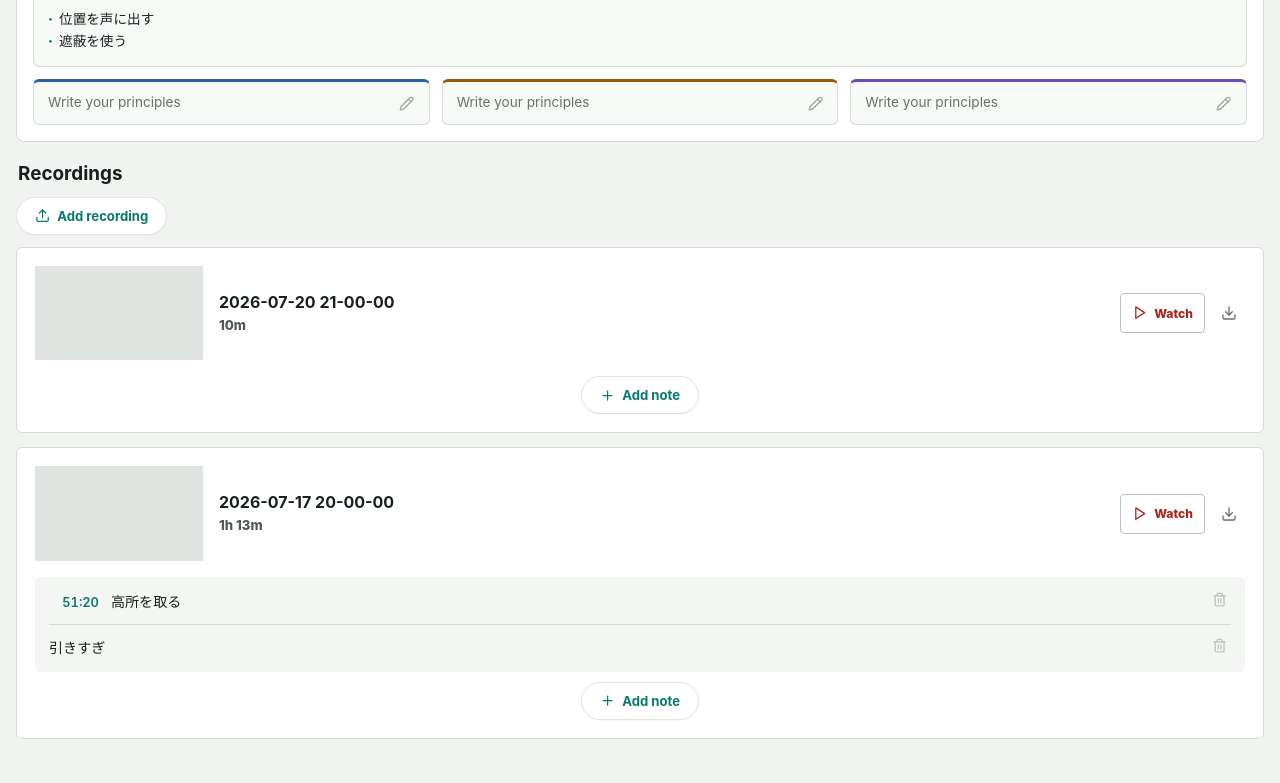
Test: home › shows an error when adding fails
The width and height of the screenshot is (1280, 783).
(page scrolled)
Click the button "Add note" below "2026-07-17 20-00-00" at {"x": 640, "y": 701}, box x1=581 y1=682 x2=699 y2=720
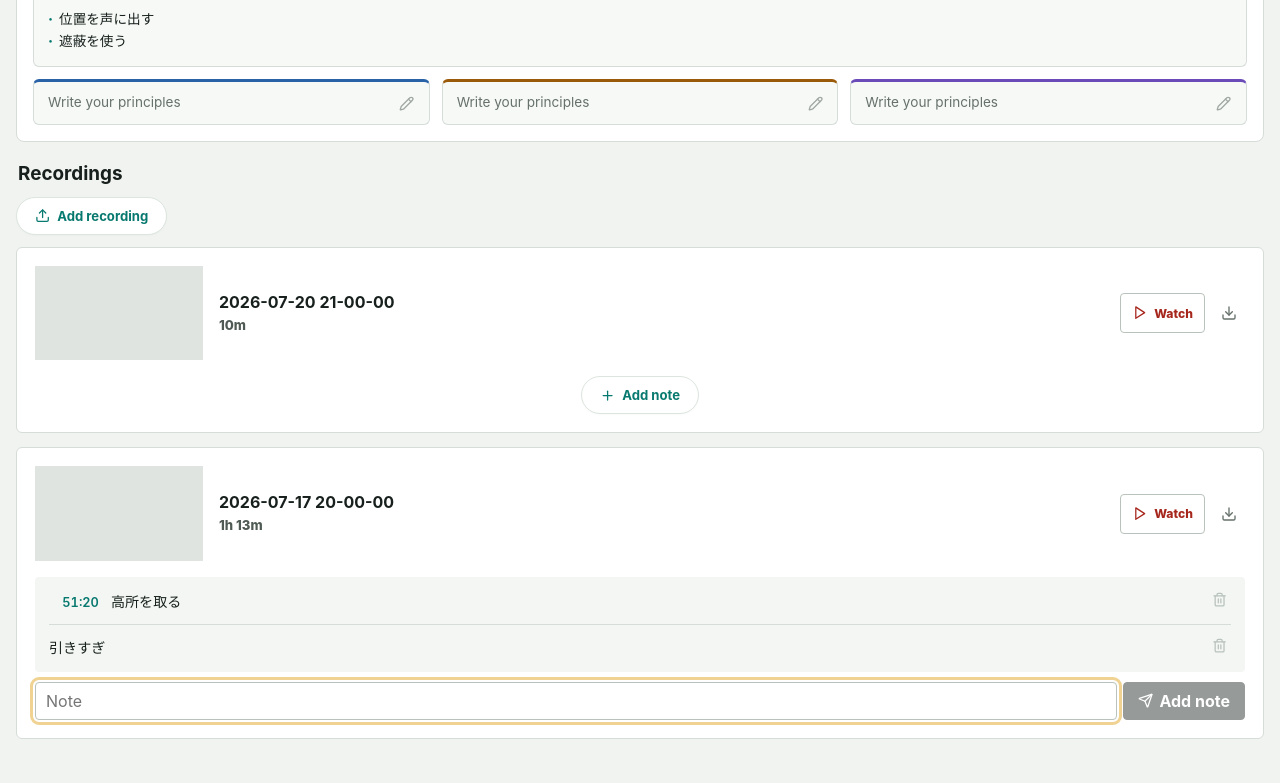
Type "失敗する" into the field at {"x": 576, "y": 701}, box x1=35 y1=682 x2=1117 y2=720
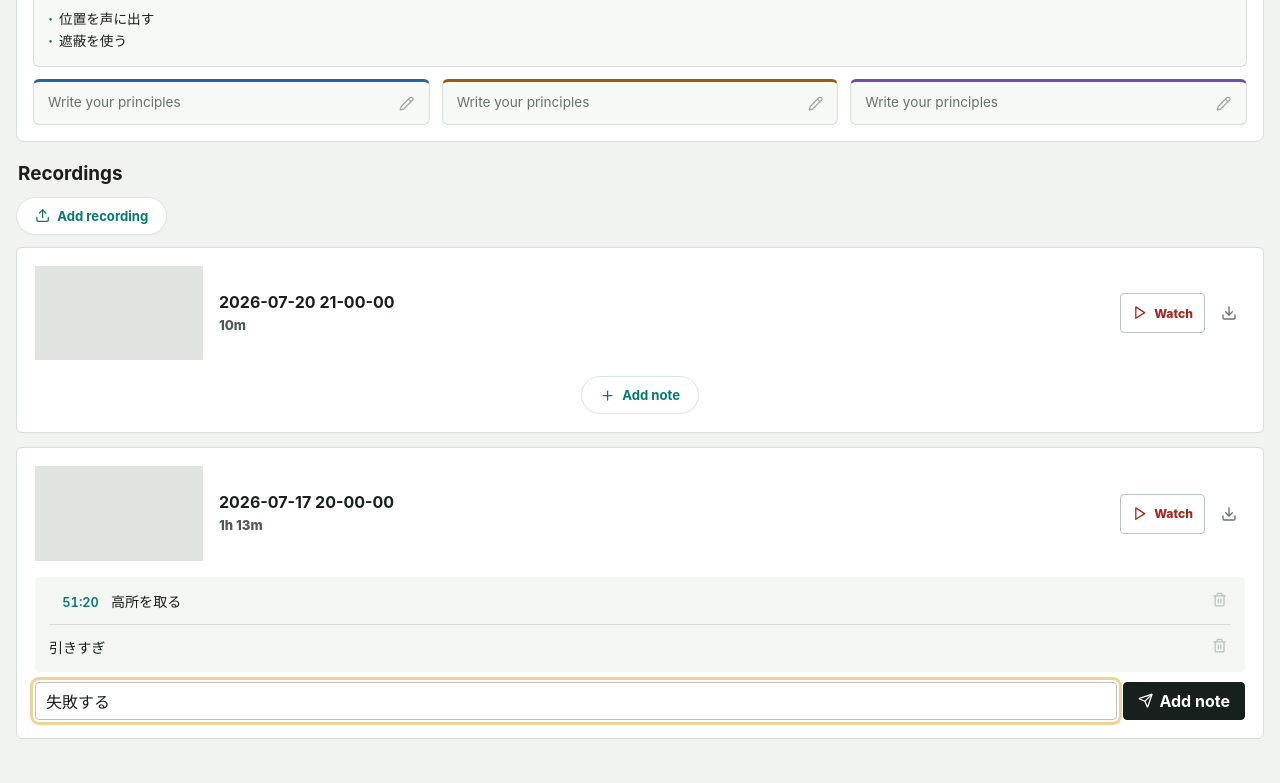
Click the 2nd button "Add note" at {"x": 1184, "y": 701}, box x1=1123 y1=682 x2=1245 y2=720
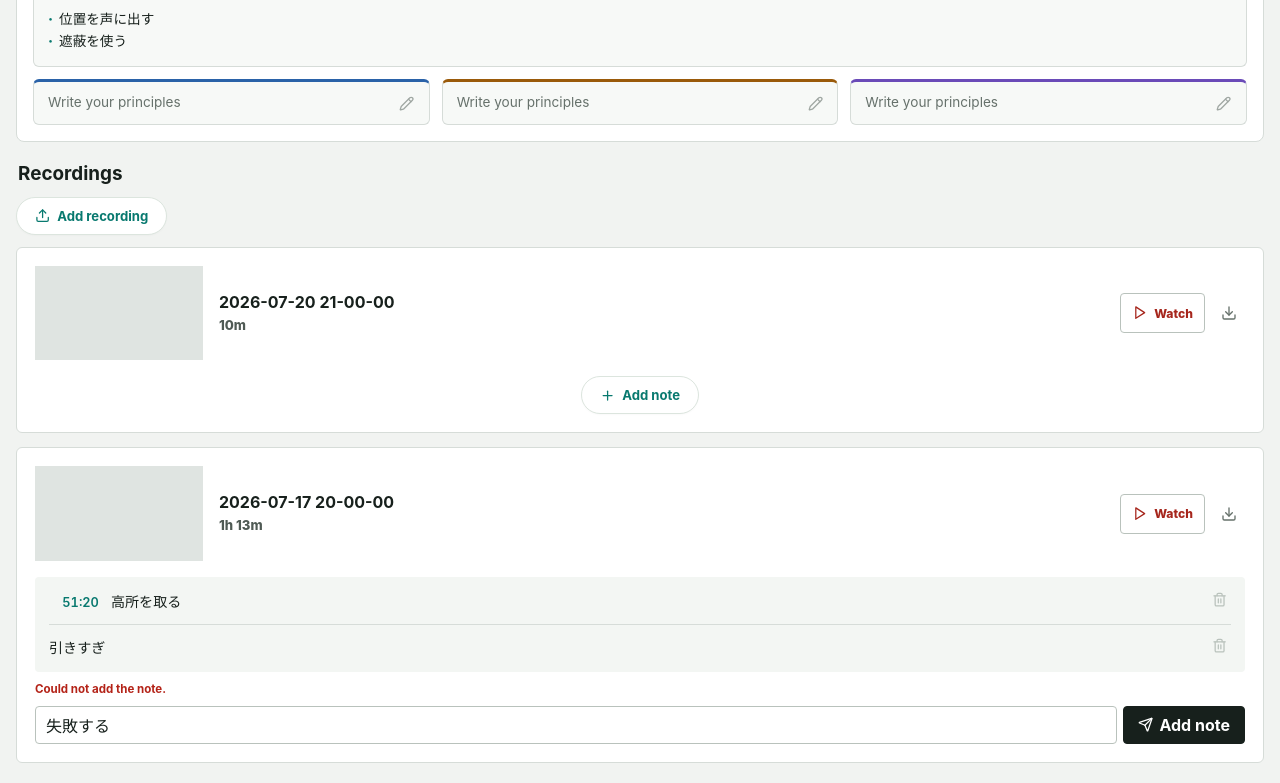
Now the message reads "Could not add the note.", box x1=35 y1=682 x2=166 y2=696
